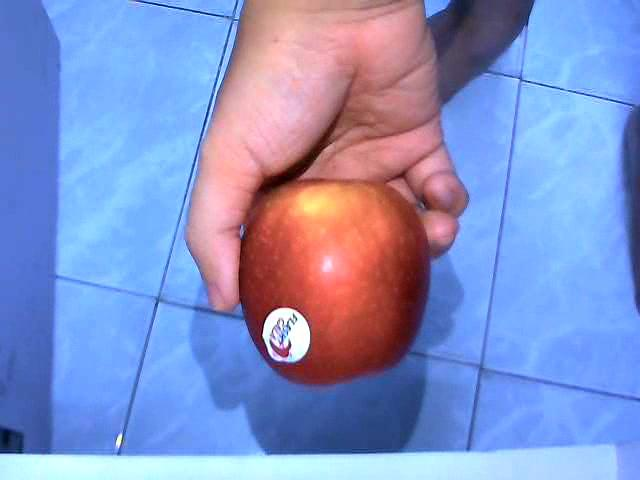apple: (235, 175, 432, 385)
